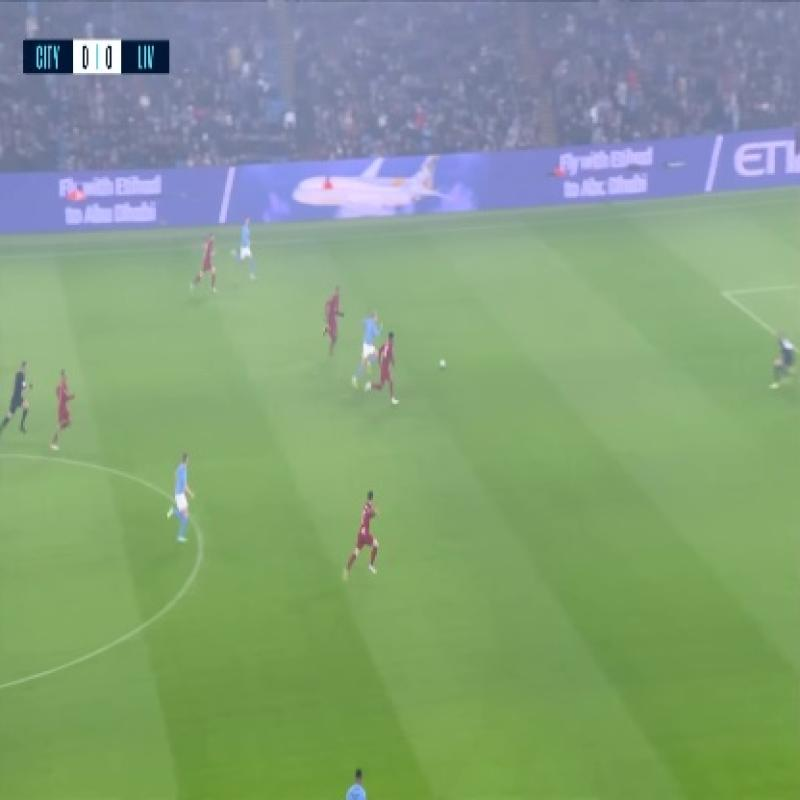9: (704, 270, 740, 316)
c: (181, 512, 218, 563)
